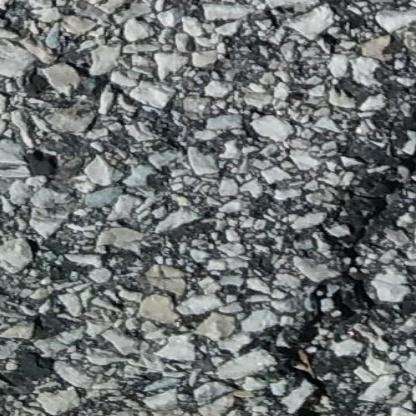Cracks: (285, 60, 416, 416)
